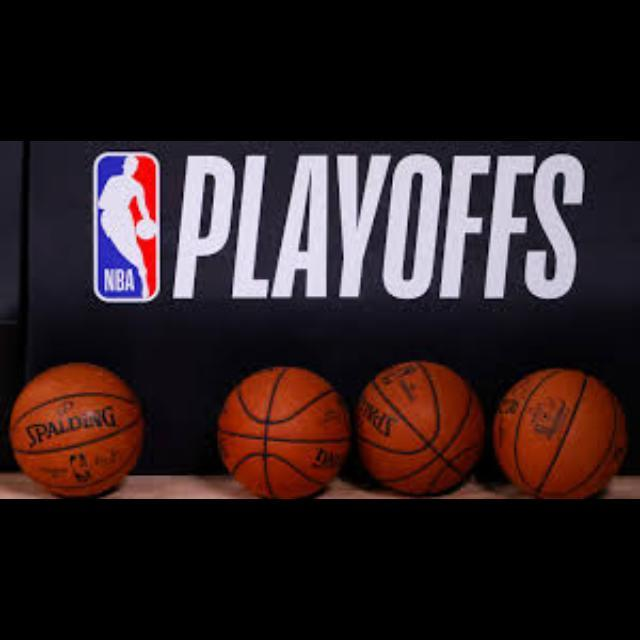basketball: (10, 364, 142, 496), (219, 369, 349, 499), (495, 370, 625, 500), (359, 362, 483, 493)
